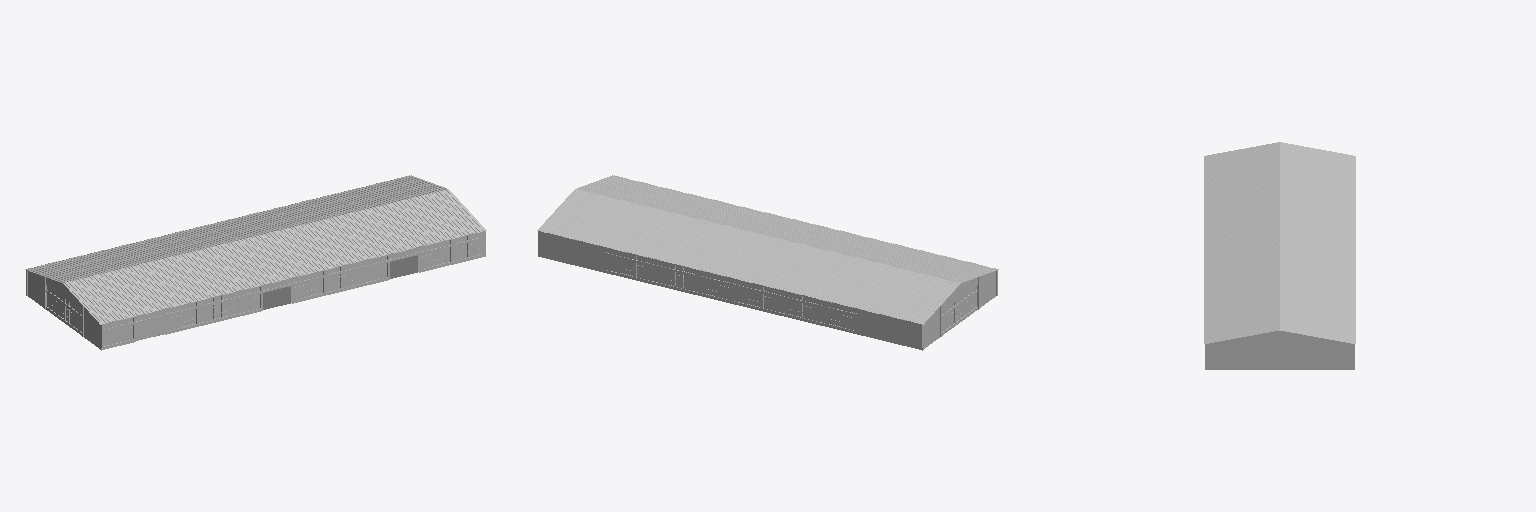
File: warhouse.obj
3 views of the same model, side by side, from view 1: azimuth 30°, elevation 25°; view 2: azimuth 150°, elevation 25°; view 3: azimuth 270°, elevation 25° (orthographic).
Parts seen in each view (by area): view 1: roof_leftEnd, roof_rightEnd001, roof006, roof004, roof009, roof008, roof010, roof002, roof001, roof005, roof003, roof007; view 2: roof_leftEnd, roof_rightEnd001, roof006, roof004, roof009, roof008, roof010, roof002, roof001, roof005, roof003, roof007 (+5 smaller); view 3: roof_rightEnd001, roof_leftEnd, roof009, roof007, roof006, roof004, roof002, roof008, roof005, roof001, roof010, roof003 (+4 smaller).
Part boxes in pixels (left/top/right/bottom): roof_leftEnd: left=25, top=261, right=134, bottom=324; roof_rightEnd001: left=378, top=175, right=486, bottom=238; roof006: left=220, top=214, right=324, bottom=276; roof004: left=155, top=230, right=261, bottom=292; roof009: left=315, top=191, right=419, bottom=253; roof008: left=282, top=199, right=387, bottom=261; roof010: left=346, top=183, right=451, bottom=245; roof002: left=93, top=245, right=197, bottom=307; roof001: left=62, top=253, right=165, bottom=315; roof005: left=188, top=222, right=292, bottom=284; roof003: left=124, top=238, right=229, bottom=300; roof007: left=251, top=207, right=356, bottom=269; roof_leftEnd: left=889, top=261, right=998, bottom=324; roof_rightEnd001: left=537, top=175, right=645, bottom=238; roof006: left=699, top=214, right=803, bottom=276; roof004: left=762, top=230, right=868, bottom=292; roof009: left=604, top=191, right=708, bottom=253; roof008: left=636, top=199, right=741, bottom=261; roof010: left=572, top=183, right=677, bottom=245; roof002: left=826, top=245, right=930, bottom=307; roof001: left=858, top=253, right=961, bottom=315; roof005: left=731, top=222, right=835, bottom=284; roof003: left=794, top=238, right=899, bottom=300; roof007: left=667, top=207, right=772, bottom=269; roof_rightEnd001: left=1204, top=313, right=1355, bottom=343; roof_leftEnd: left=1204, top=142, right=1355, bottom=171; roof009: left=1204, top=282, right=1355, bottom=311; roof007: left=1204, top=251, right=1355, bottom=280; roof006: left=1204, top=236, right=1355, bottom=264; roof004: left=1204, top=205, right=1355, bottom=233; roof002: left=1204, top=174, right=1355, bottom=202; roof008: left=1204, top=267, right=1355, bottom=295; roof005: left=1204, top=220, right=1355, bottom=249; roof001: left=1204, top=158, right=1355, bottom=187; roof010: left=1204, top=298, right=1355, bottom=326; roof003: left=1204, top=189, right=1355, bottom=218.
Bounding box in the file's own units: 93.01 × 9.3 × 31.55.